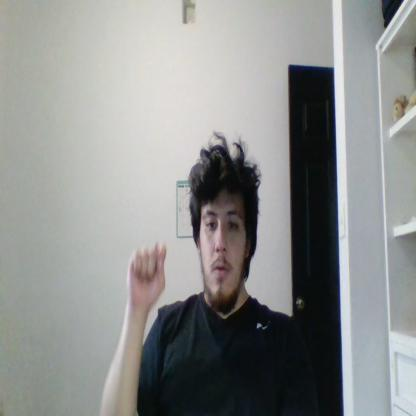T: (127, 241, 167, 304)
